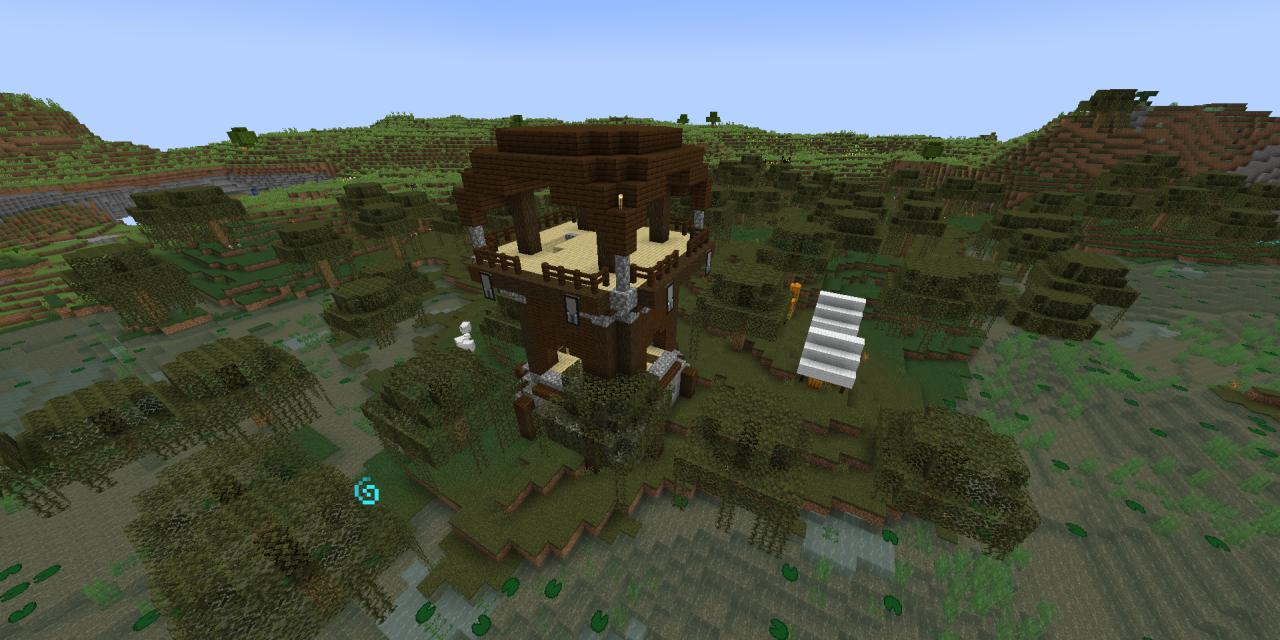pillager outpost: (437, 109, 721, 469)
